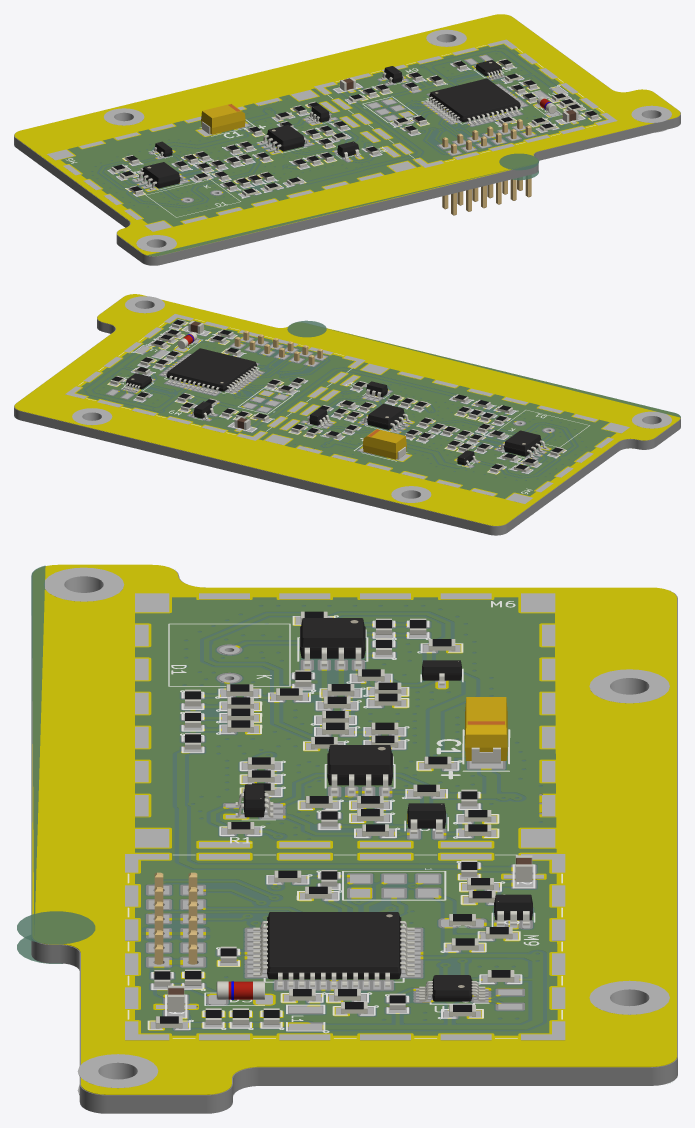
Rendered from SPACEDOS01.glb.
The picture shows the model from 3 angles, top to bottom: view 1: azimuth 30°, elevation 25°; view 2: azimuth 150°, elevation 25°; view 3: azimuth 270°, elevation 25°; orthographic projection. The views are drawn at different scales.
Visible parts, largest first — view 1: =>[0:1:1:14], =>[0:1:1:19], =>[0:1:1:21], =>[0:1:1:15], =>[0:1:1:17], U10, C1, U1, U2; view 2: =>[0:1:1:14], =>[0:1:1:19], =>[0:1:1:21], =>[0:1:1:15], =>[0:1:1:17], U10, C1, U2, U1; view 3: =>[0:1:1:14], =>[0:1:1:19], =>[0:1:1:15], =>[0:1:1:21], U10, =>[0:1:1:17], U1, U2, C1, U11, U8, U5 (+3 smaller).
Boxes of the visible parts, x1,y1,x2,y2 form: =>[0:1:1:14]: [14, 14, 680, 256]; =>[0:1:1:19]: [61, 44, 606, 256]; =>[0:1:1:21]: [14, 16, 680, 265]; =>[0:1:1:15]: [47, 29, 671, 252]; =>[0:1:1:17]: [65, 45, 604, 217]; U10: [426, 78, 524, 124]; C1: [201, 103, 245, 134]; U1: [136, 162, 185, 190]; U2: [261, 125, 310, 152]; =>[0:1:1:14]: [14, 294, 680, 525]; =>[0:1:1:19]: [76, 318, 680, 498]; =>[0:1:1:21]: [14, 294, 680, 535]; =>[0:1:1:15]: [65, 296, 671, 503]; =>[0:1:1:17]: [78, 319, 589, 494]; U10: [163, 348, 260, 393]; C1: [362, 429, 406, 459]; U2: [361, 403, 410, 431]; U1: [498, 430, 547, 458]; =>[0:1:1:14]: [32, 564, 676, 1094]; =>[0:1:1:19]: [17, 565, 557, 1035]; =>[0:1:1:15]: [44, 567, 669, 1094]; =>[0:1:1:21]: [31, 569, 677, 1113]; U10: [253, 912, 414, 986]; =>[0:1:1:17]: [127, 601, 562, 1038]; U1: [300, 618, 365, 666]; U2: [327, 745, 392, 793]; C1: [465, 697, 507, 763]; U11: [419, 975, 485, 1001]; U8: [494, 894, 532, 925]; U5: [407, 803, 445, 833].
Bounding box in the file's own units: 0.0935 × 0.013 × 0.0493.
